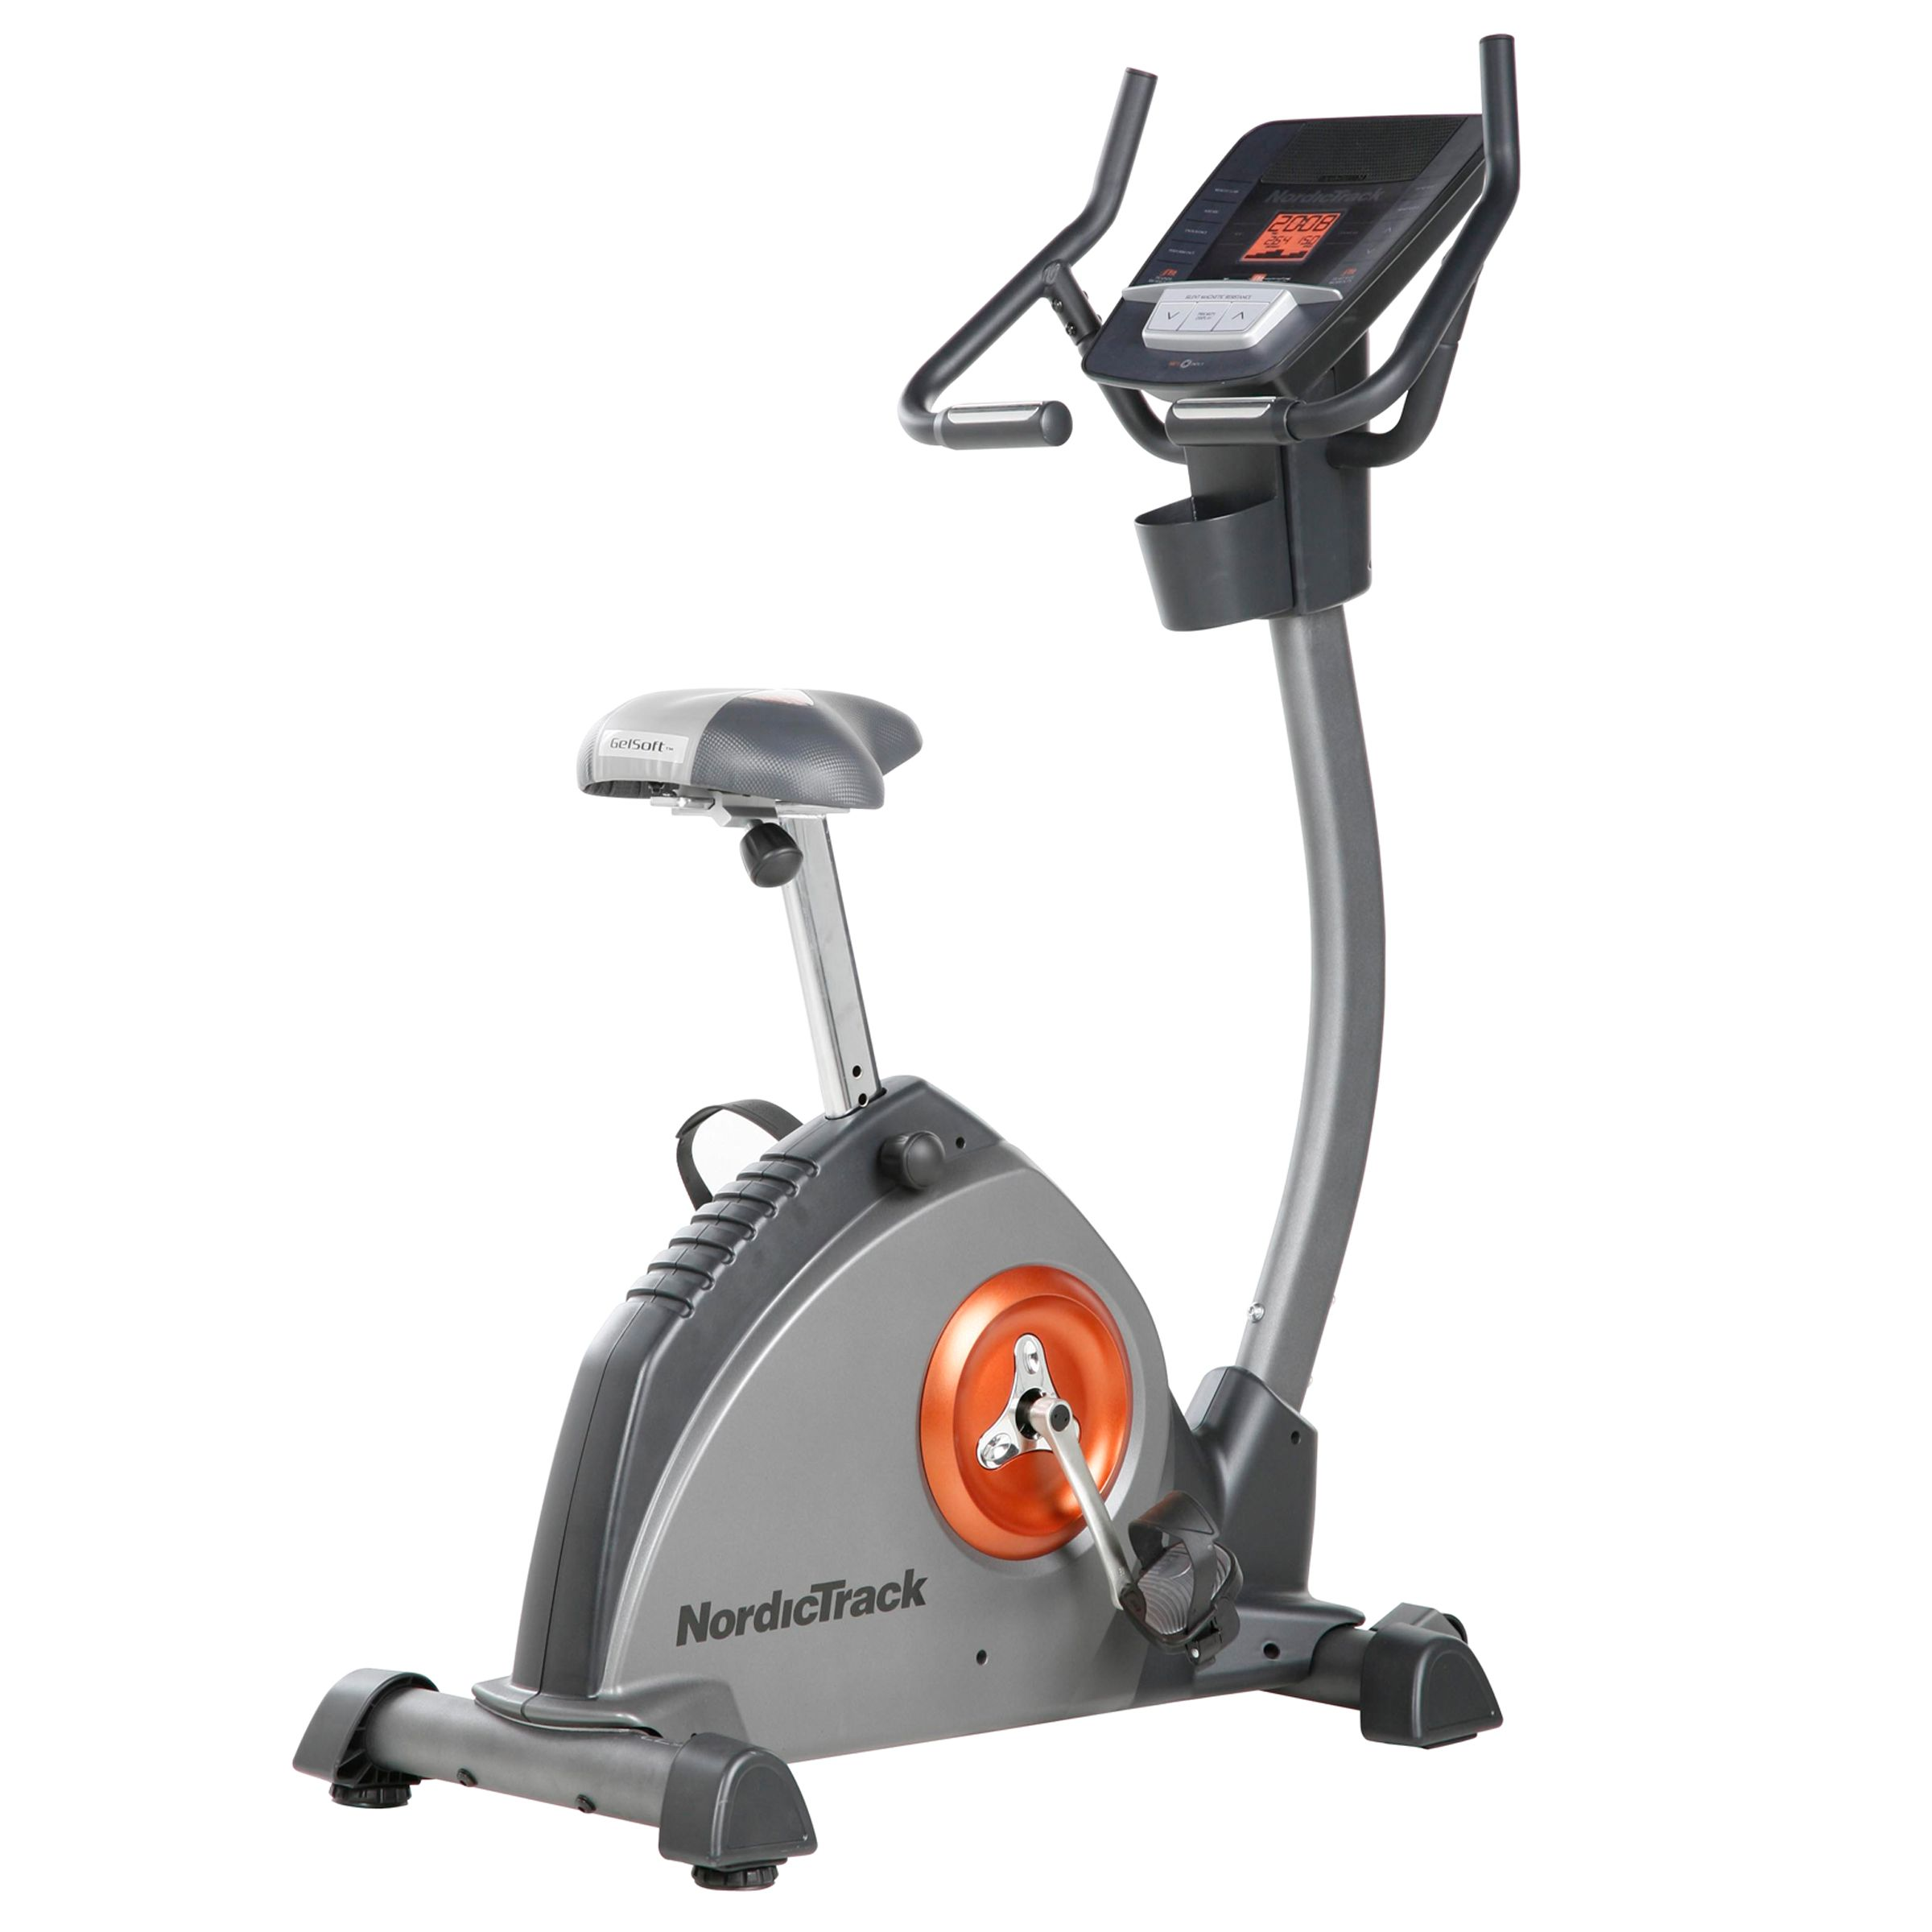gym_bike: (241, 37, 1532, 1844)
